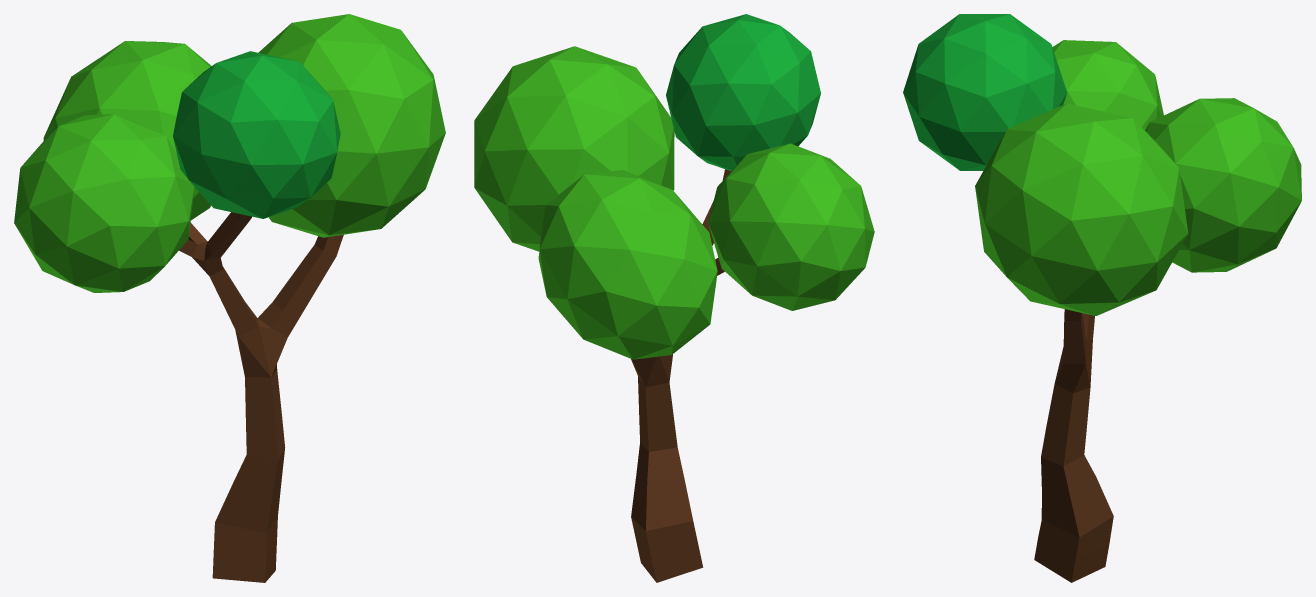
File: tree4.glb
3 views of the same model, side by side, from view 1: azimuth 30°, elevation 25°; view 2: azimuth 150°, elevation 25°; view 3: azimuth 270°, elevation 25° (orthographic). The views are drawn at different scales.
Parts seen in each view (by area): view 1: Icosphere.003; view 2: Icosphere.003; view 3: Icosphere.003.
Part boxes in pixels (box(x1,y1,x2,y2)): Icosphere.003: box(14, 14, 445, 582); Icosphere.003: box(474, 14, 874, 582); Icosphere.003: box(903, 14, 1301, 582).
Size of the model in its own units: 7.19 by 9.6 by 6.49.
